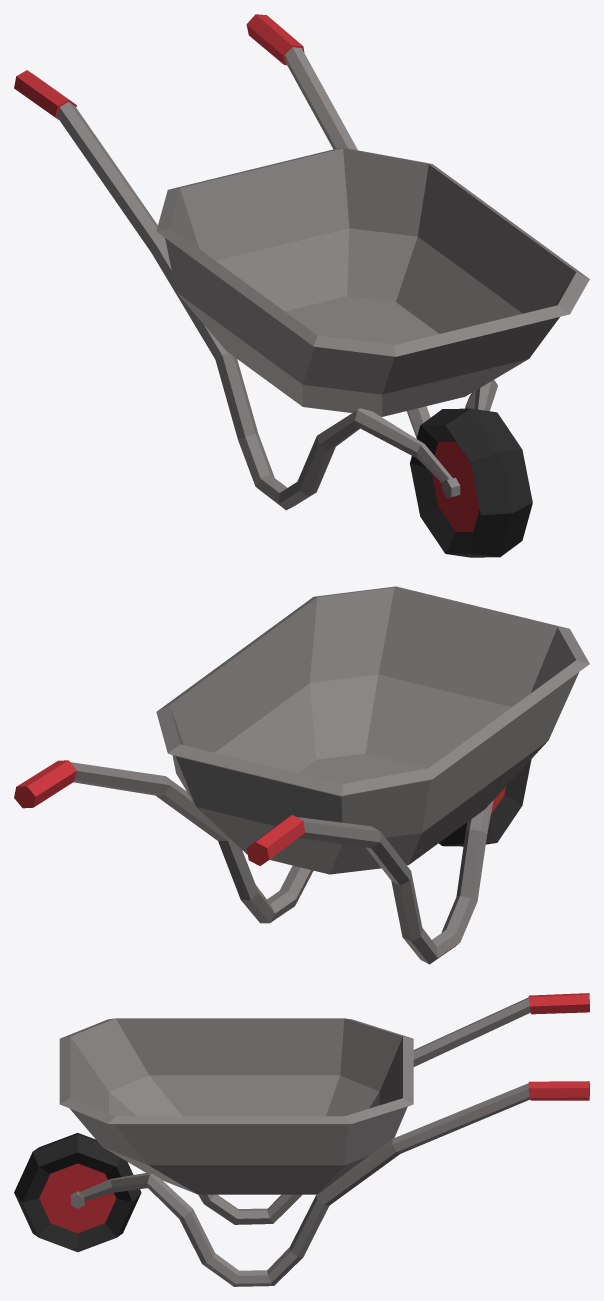
The model's file is tools-wheelbarrow.glb.
The picture shows the model from 3 angles, top to bottom: view 1: azimuth 30°, elevation 25°; view 2: azimuth 150°, elevation 25°; view 3: azimuth 270°, elevation 25°; orthographic projection. The views are drawn at different scales.
Parts seen in each view (by area): view 1: wheelbarrow; view 2: wheelbarrow; view 3: wheelbarrow.
Part boxes in pixels (x1,y1,x2,y2): wheelbarrow: (14,14,589,557); wheelbarrow: (14,586,589,964); wheelbarrow: (14,993,589,1286).
Bounding box in the file's own units: 0.6204 × 0.6005 × 1.44.
